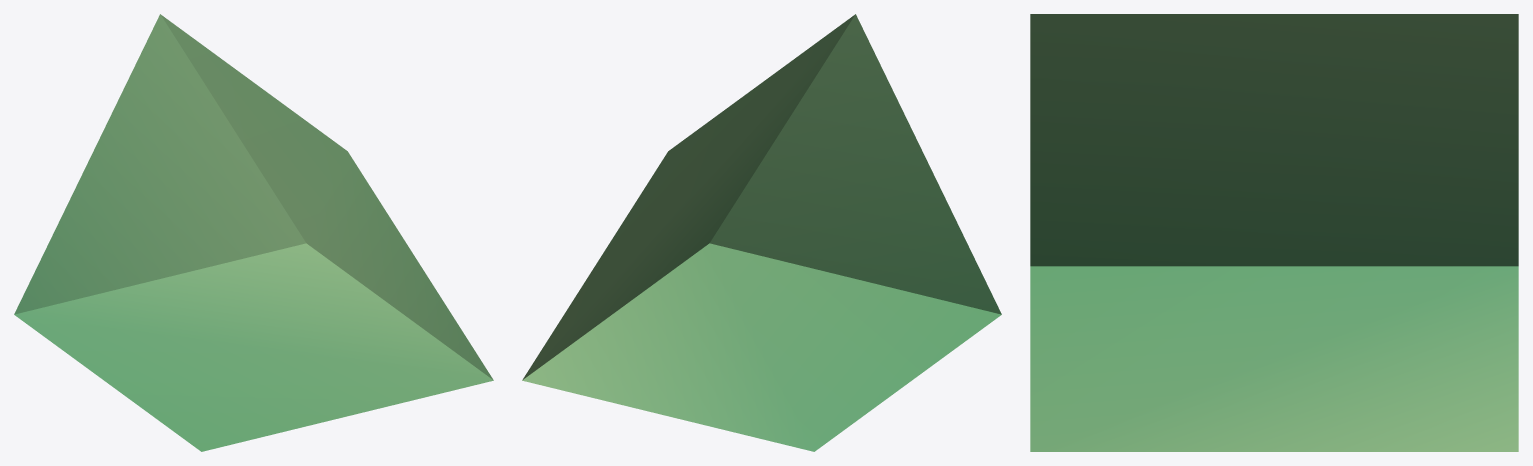
File: prisma.glb
The picture shows the model from 3 angles, left to right: view 1: azimuth 30°, elevation 25°; view 2: azimuth 150°, elevation 25°; view 3: azimuth 270°, elevation 25°; orthographic projection. The views are drawn at different scales.
Parts seen in each view (by area): view 1: world; view 2: world; view 3: world.
Part boxes in pixels (bbox=[...]): world: bbox=[14, 14, 493, 451]; world: bbox=[522, 14, 1001, 451]; world: bbox=[1030, 14, 1518, 451].
Bounding box in the file's own units: 0.9 × 0.7794 × 1.
